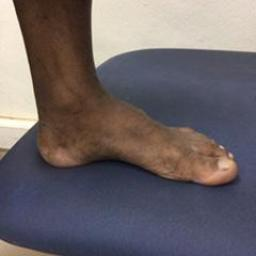Medial View -Left Foot-: (24, 63, 244, 208)
